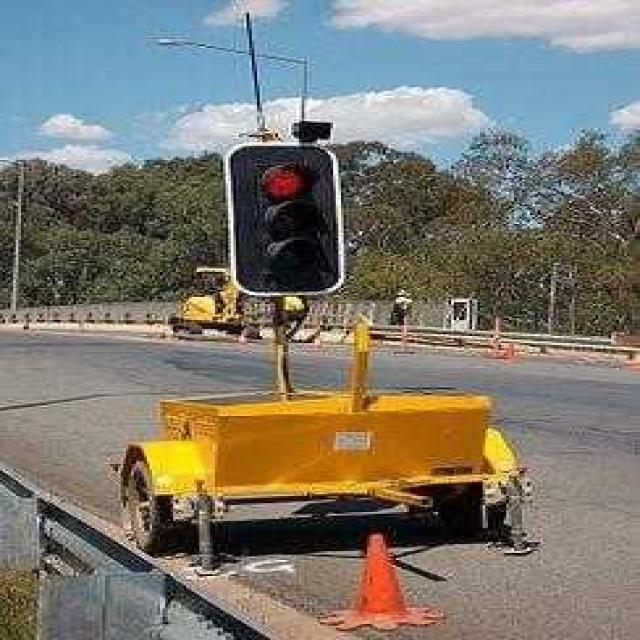Traffic Light -Red-: (252, 151, 338, 304)
